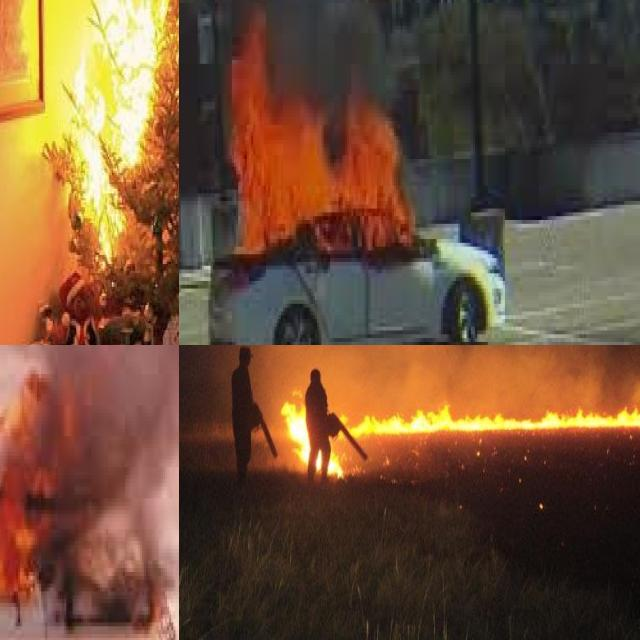fire: (214, 15, 436, 274), (279, 389, 640, 481), (0, 359, 129, 607), (65, 0, 179, 243)
smoke: (5, 345, 179, 537), (419, 2, 640, 147), (197, 345, 640, 408), (179, 0, 394, 102)
